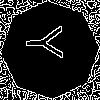Y: (25, 25, 73, 60)
